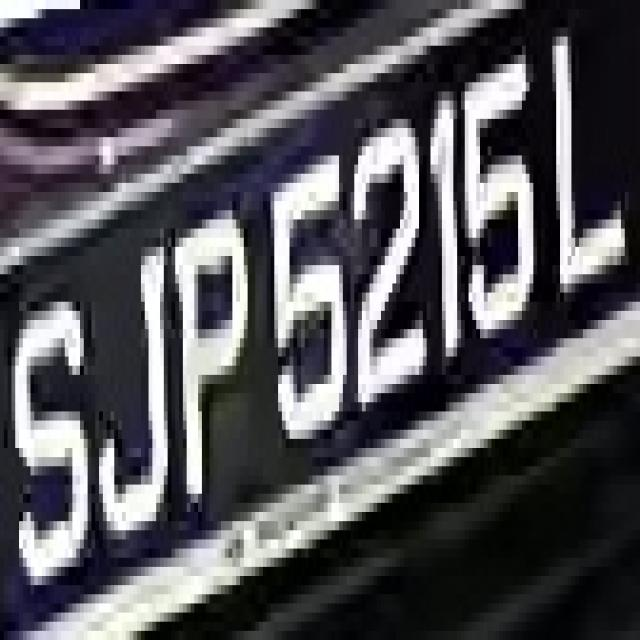1: (419, 64, 465, 393)
2: (347, 110, 423, 430)
5: (259, 119, 351, 466), (457, 55, 545, 366)
J: (88, 192, 172, 558)
L: (548, 18, 632, 329)
P: (160, 174, 255, 512)
S: (11, 238, 99, 622)
